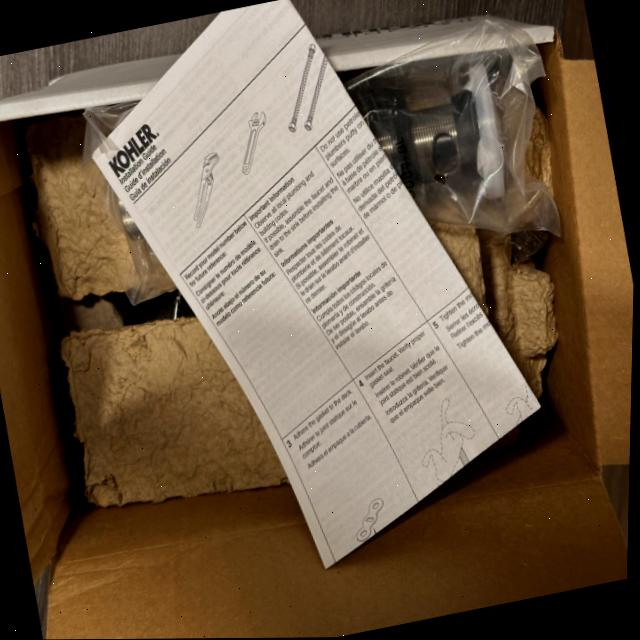11o: (346, 44, 559, 235)
8: (90, 0, 539, 567)
